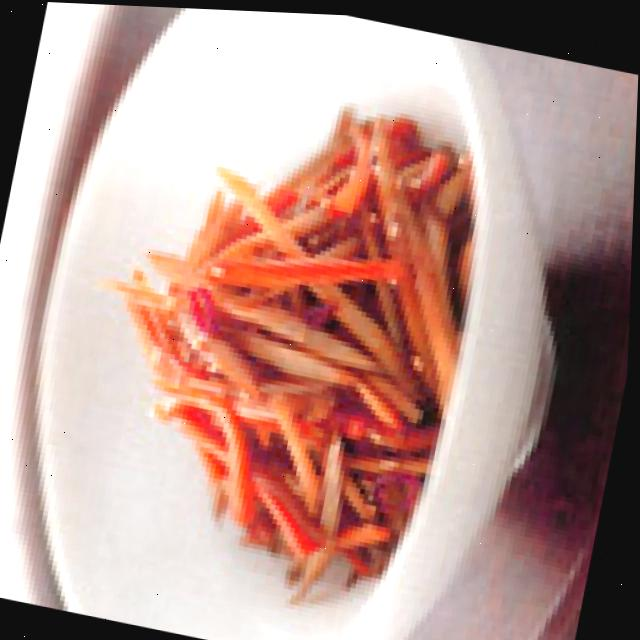蔬菜料理: (69, 68, 502, 585)
